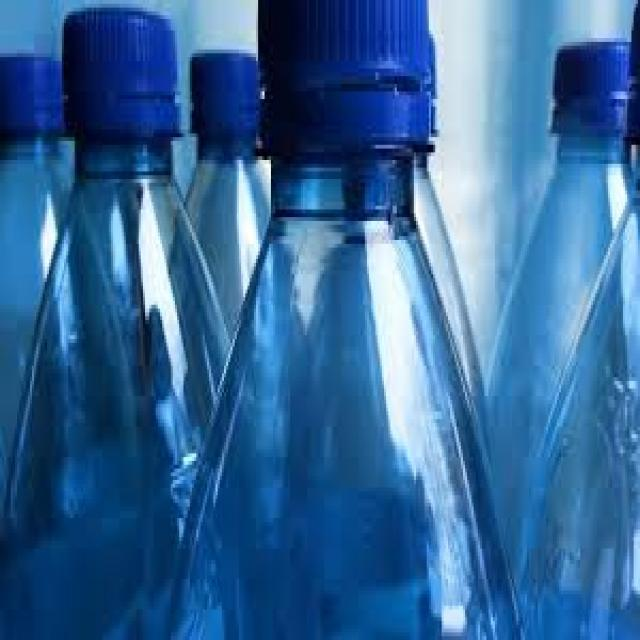Plastic: (173, 0, 524, 640), (0, 10, 240, 640), (481, 40, 639, 640)
